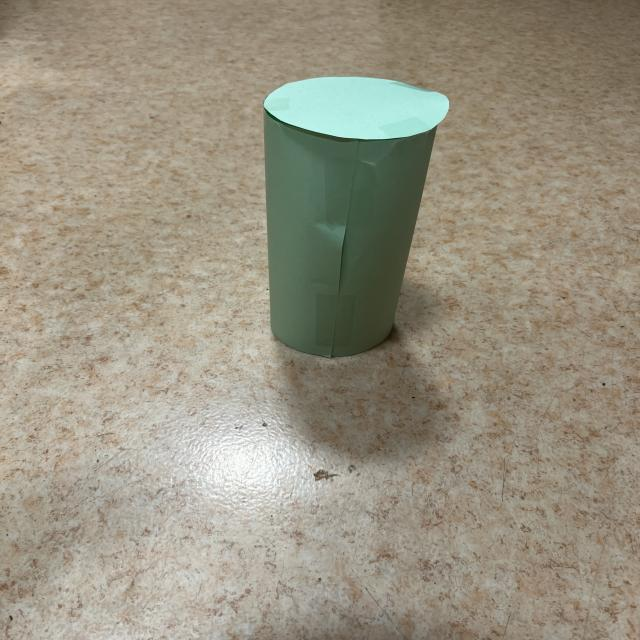meta: (264, 77, 448, 357)
